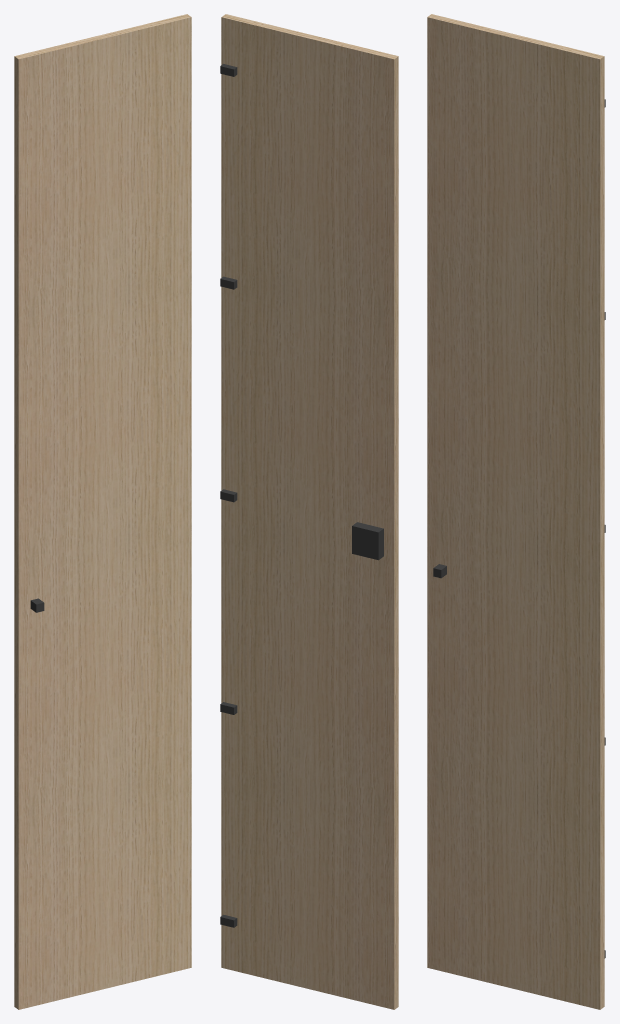
File: C_dor_hoyre.glb
3 views of the same model, side by side, from view 1: azimuth 30°, elevation 25°; view 2: azimuth 150°, elevation 25°; view 3: azimuth 330°, elevation 25° (orthographic).
Visible parts, largest first — view 1: 2025-284 Resepsjon høyskap; view 2: 2025-284 Resepsjon høyskap; view 3: 2025-284 Resepsjon høyskap.
Part boxes in pixels (x1,y1,x2,y2): 2025-284 Resepsjon høyskap: [14, 14, 191, 1009]; 2025-284 Resepsjon høyskap: [220, 14, 398, 1009]; 2025-284 Resepsjon høyskap: [427, 14, 605, 1009].
Bounding box in the file's own units: 436 × 2287 × 67.
Materials: 2 (1 with a texture image).
